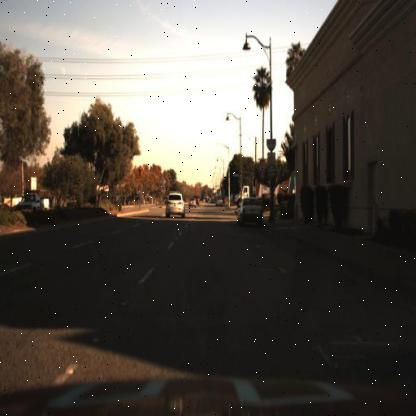car: (13, 183, 52, 221), (236, 197, 264, 230), (159, 189, 187, 221), (184, 192, 202, 214)
truck: (234, 171, 297, 198)
